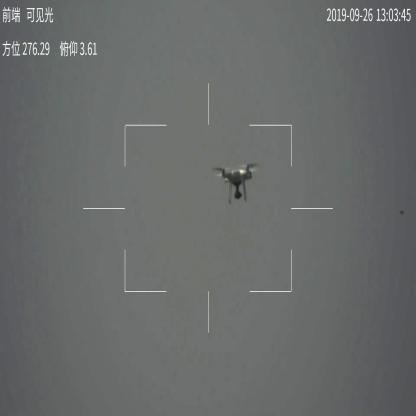uav: (215, 159, 257, 207)
